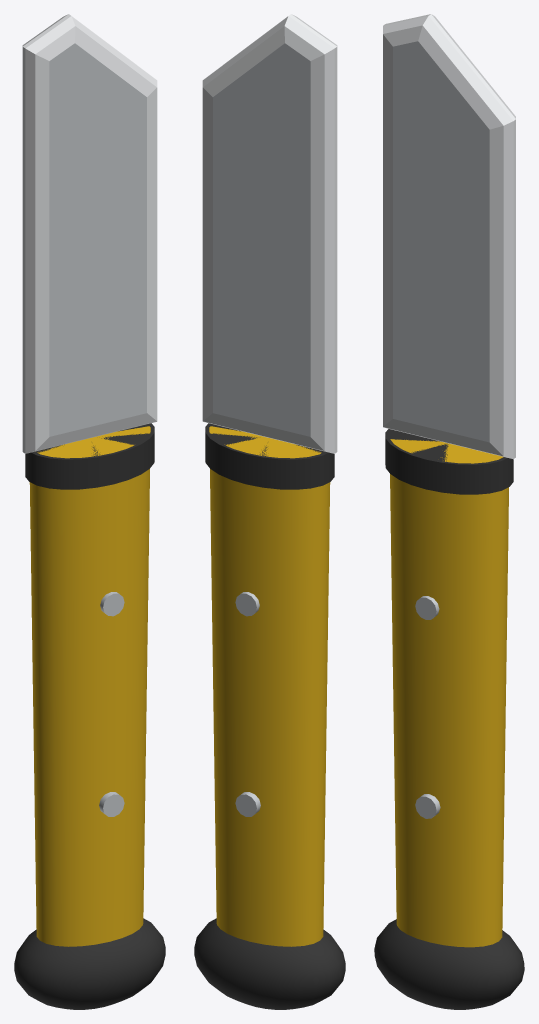
File: 06_Common_Box_Cutter.glb
3 views of the same model, side by side, from view 1: azimuth 30°, elevation 25°; view 2: azimuth 150°, elevation 25°; view 3: azimuth 330°, elevation 25° (orthographic).
Parts seen in each view (by area): view 1: blade_0, handle_1, pommel_3, ferrule_2, rivet_5, rivet_4; view 2: blade_0, handle_1, pommel_3, ferrule_2, rivet_5, rivet_4; view 3: blade_0, handle_1, pommel_3, ferrule_2, rivet_5, rivet_4.
Boxes of the visible parts, x1,y1,x2,y2 form: blade_0: [22, 14, 157, 453]; handle_1: [29, 426, 150, 946]; pommel_3: [14, 918, 165, 1009]; ferrule_2: [25, 423, 154, 489]; rivet_5: [99, 792, 124, 816]; rivet_4: [100, 592, 124, 616]; blade_0: [202, 14, 337, 453]; handle_1: [209, 426, 330, 946]; pommel_3: [194, 918, 345, 1009]; ferrule_2: [205, 423, 334, 489]; rivet_5: [235, 792, 260, 816]; rivet_4: [235, 592, 259, 616]; blade_0: [383, 14, 515, 459]; handle_1: [390, 439, 508, 947]; pommel_3: [374, 919, 524, 1009]; ferrule_2: [385, 429, 513, 494]; rivet_5: [415, 794, 440, 818]; rivet_4: [415, 596, 439, 619].
Size of the model in its own units: 0.059 by 0.3952 by 0.0418.
6 materials, 6 textured.
